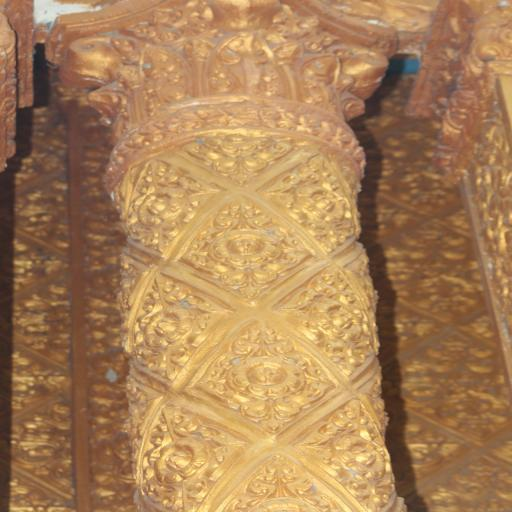hoa: (184, 192, 308, 294), (300, 400, 409, 510), (215, 329, 323, 421), (136, 413, 239, 505), (132, 278, 212, 379), (296, 272, 378, 365), (119, 164, 203, 247), (285, 161, 363, 247), (184, 120, 287, 184), (230, 452, 331, 512)
